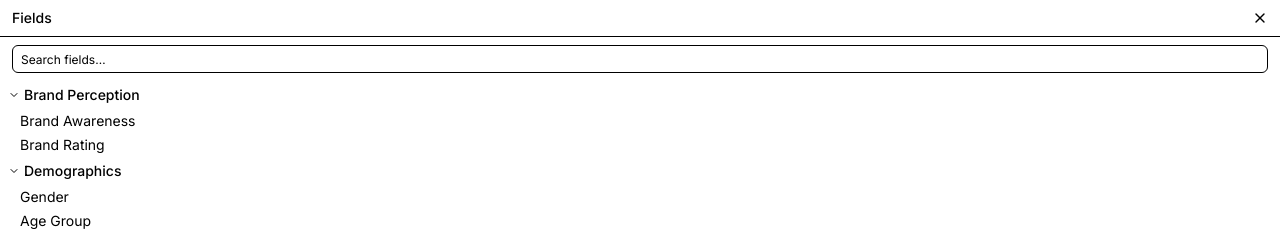
Test case: FieldTreePanel › search input filters visible fields
This screenshot has width=1280, height=246.
Check: the button "Brand Awareness" is shown, box [20,111,1224,131]
Type "age" into the search field with placeholder "Search fields…" at point(640, 59), box [12,45,1268,73]
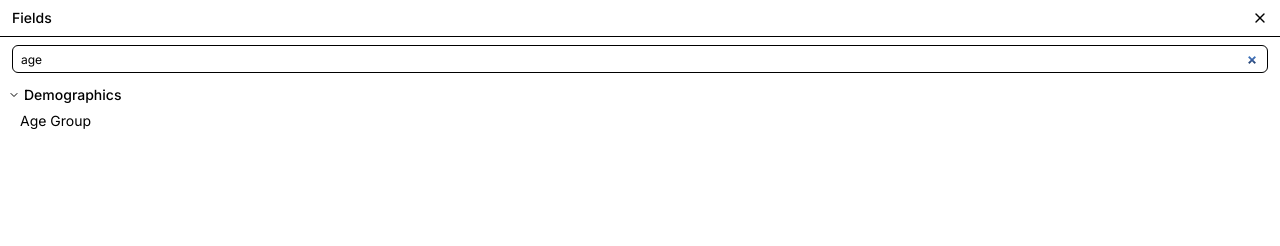
Check: the button "Age Group" is shown, box [20,111,1224,131]
Check: the button "Brand Awareness" is gone
Check: the button "Gender" is gone
